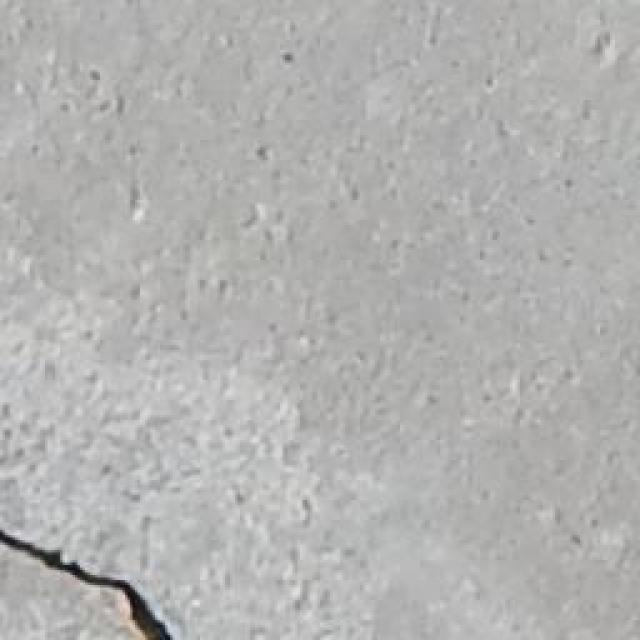concrete-crack: (1, 525, 180, 640)
